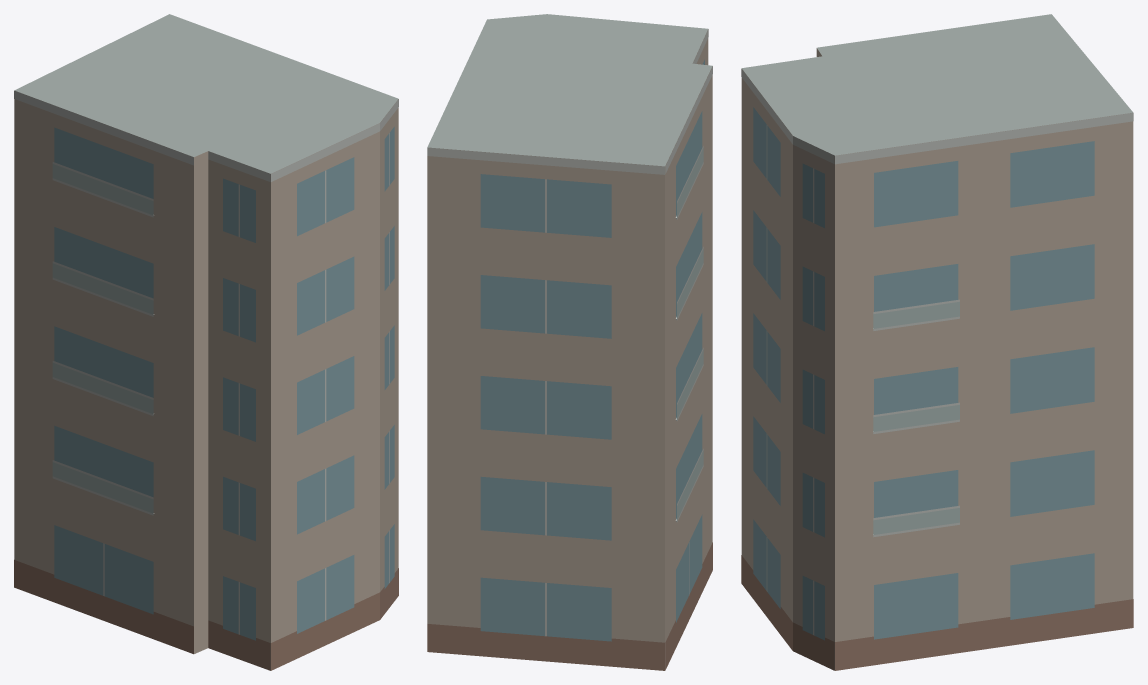
Rendered from survey-upis-32590965.glb.
3 views of the same model, side by side, from view 1: azimuth 30°, elevation 25°; view 2: azimuth 150°, elevation 25°; view 3: azimuth 270°, elevation 25° (orthographic). The views are drawn at different scales.
Visible parts, largest first — view 1: survey-upis-32590965.tmp; view 2: survey-upis-32590965.tmp; view 3: survey-upis-32590965.tmp.
Part boxes in pixels (x1,y1,x2,y2): survey-upis-32590965.tmp: [14, 14, 398, 670]; survey-upis-32590965.tmp: [427, 14, 712, 670]; survey-upis-32590965.tmp: [741, 14, 1133, 670].
Size of the model in its own units: 8.5 by 14.4 by 9.94.
